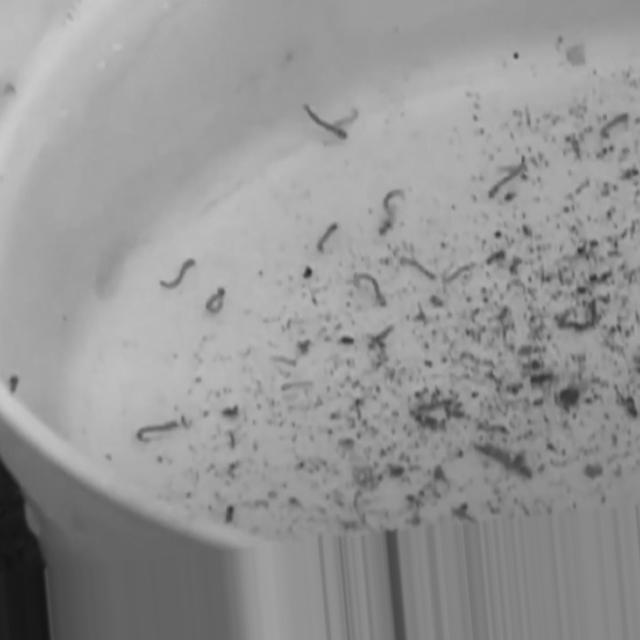larvas: (302, 93, 348, 143), (489, 164, 524, 198), (159, 260, 197, 289), (379, 190, 404, 234), (402, 255, 433, 283), (359, 274, 385, 305), (602, 110, 626, 140), (138, 422, 178, 439), (317, 220, 337, 252), (443, 264, 467, 288), (207, 283, 225, 314), (368, 328, 391, 351), (338, 104, 358, 128), (486, 246, 504, 268), (283, 378, 312, 390), (224, 428, 236, 452), (222, 401, 240, 416), (273, 355, 300, 365), (275, 365, 293, 379), (180, 416, 191, 431)
